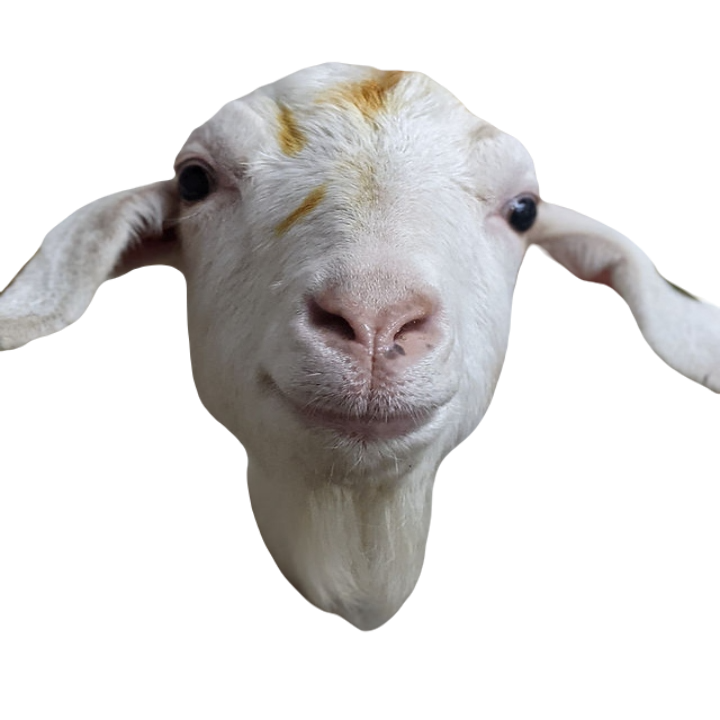Goat: (0, 58, 719, 631)
